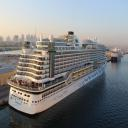cruises: (9, 29, 110, 117), (112, 45, 124, 64)
